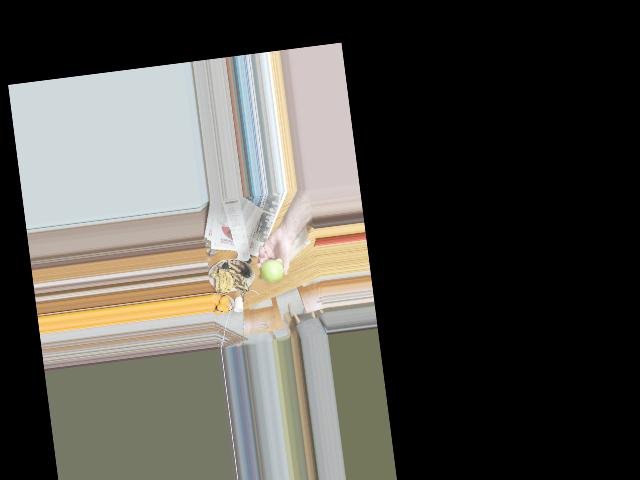apple: (259, 257, 285, 287)
